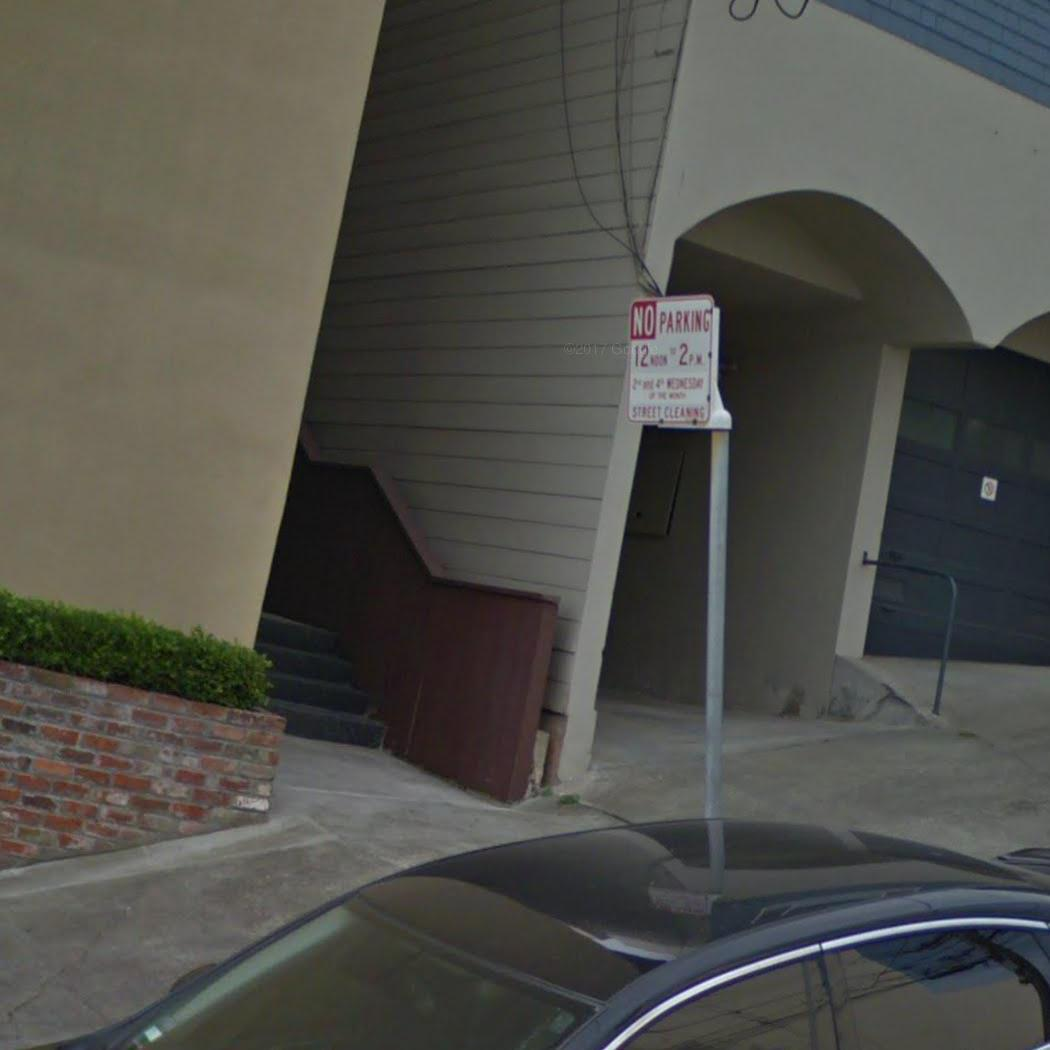No Parking: (623, 289, 727, 428)
